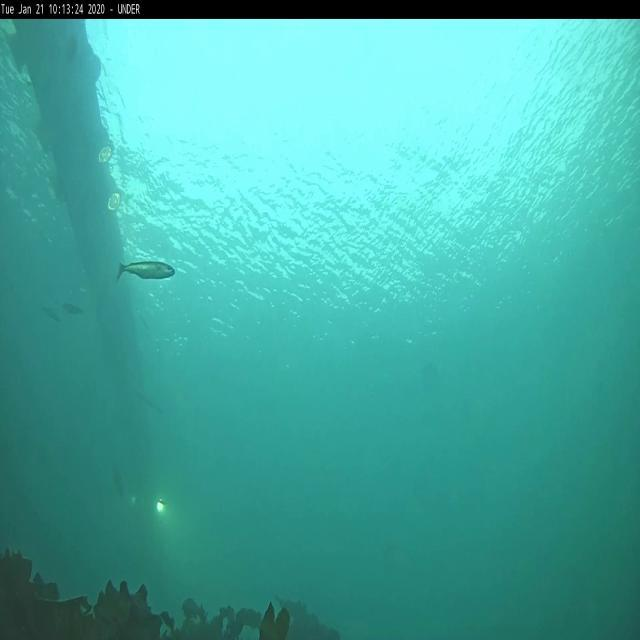fish: (115, 259, 176, 284), (136, 389, 162, 415), (112, 459, 125, 496), (43, 306, 61, 324), (62, 303, 84, 316)
